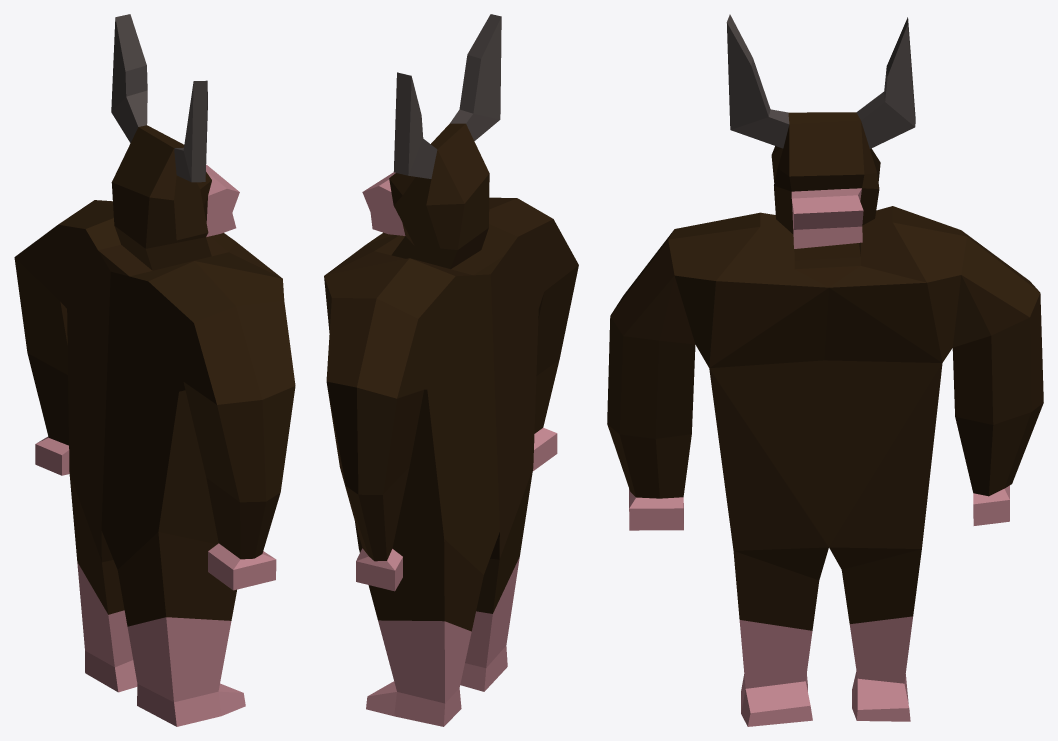
Rendered from minotaur.fbx.
The picture shows the model from 3 angles, left to right: view 1: azimuth 30°, elevation 25°; view 2: azimuth 150°, elevation 25°; view 3: azimuth 270°, elevation 25°; orthographic projection. The views are drawn at different scales.
Parts seen in each view (by area): view 1: Minotaur; view 2: Minotaur; view 3: Minotaur.
Boxes of the visible parts, x1,y1,x2,y2 form: Minotaur: [14, 14, 295, 726]; Minotaur: [324, 14, 578, 726]; Minotaur: [607, 14, 1043, 726].
Bounding box in the file's own units: 93.68 × 435 × 251.
